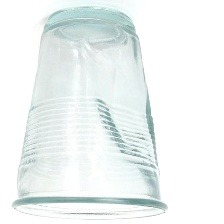glass: (10, 3, 170, 221)
